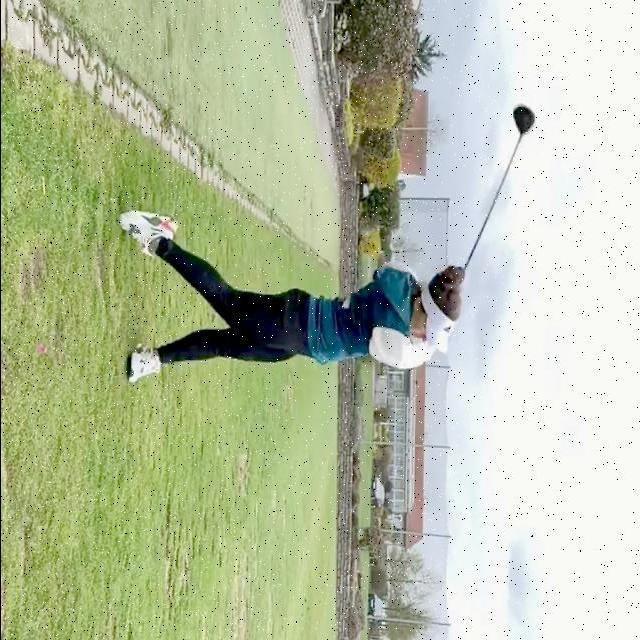golf club-handle: (463, 105, 534, 270)
golf club-head: (512, 105, 535, 134)
